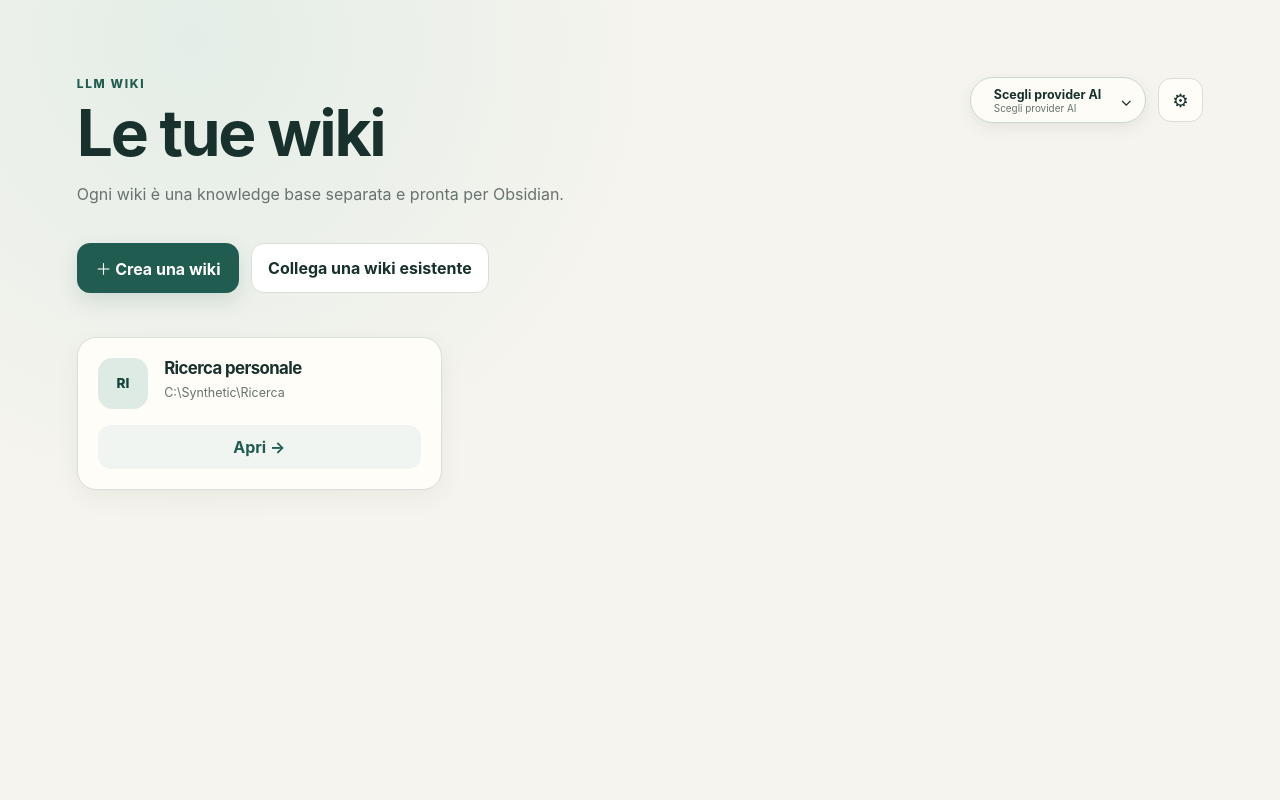
Test: App › opens a registered wiki
The width and height of the screenshot is (1280, 800).
Click the button "Apri →": (259, 447) [98, 425, 421, 469]
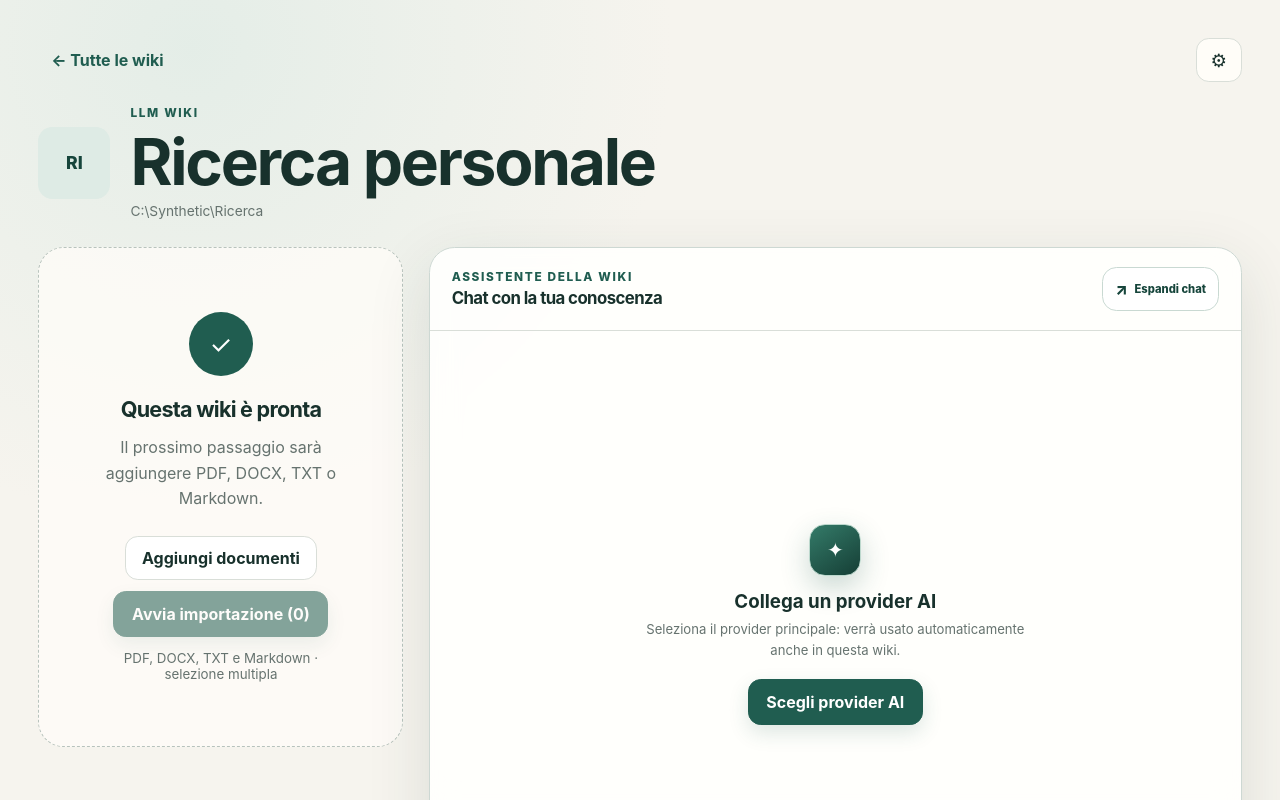
Now the heading "Questa wiki è pronta" is shown, box [121, 396, 321, 422]
Now the heading "Ricerca personale" is shown, box [130, 129, 655, 194]
